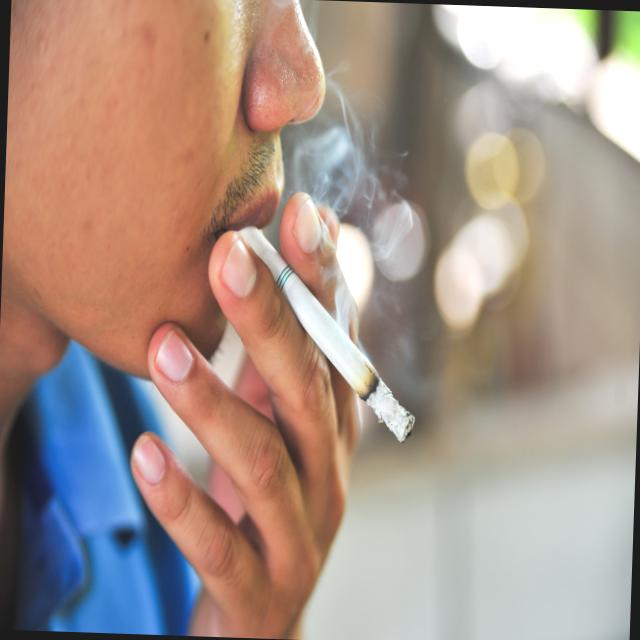cigarette: (278, 263, 422, 448)
